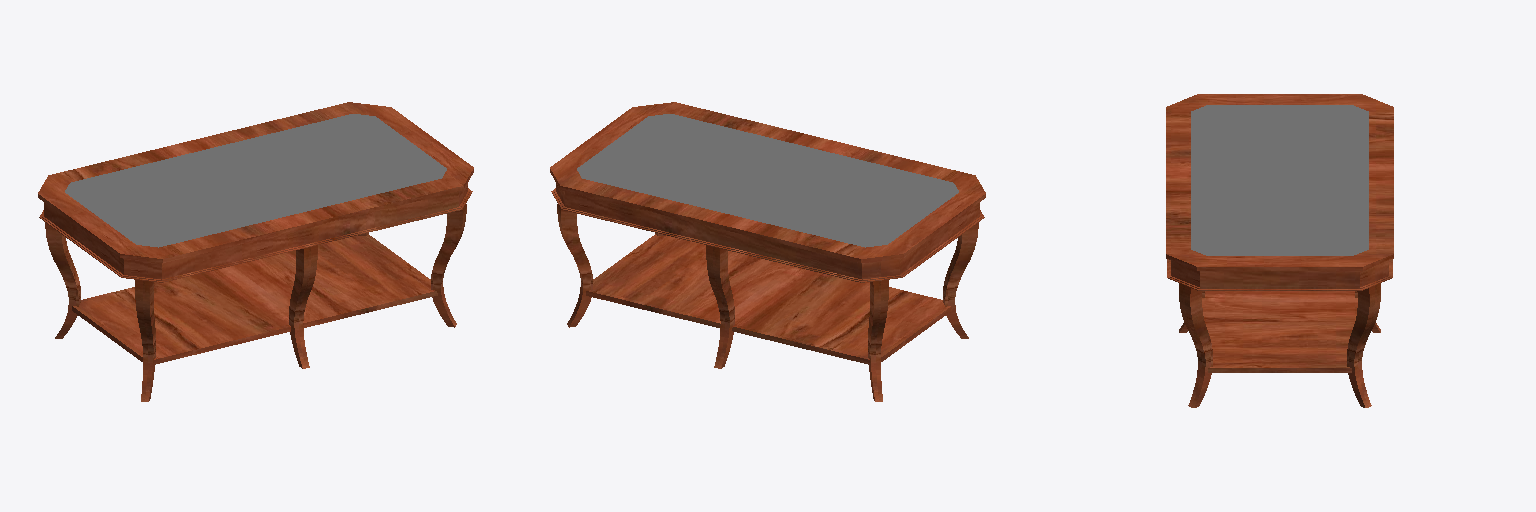
3 renders of one model, left to right at view 1: azimuth 30°, elevation 25°; view 2: azimuth 150°, elevation 25°; view 3: azimuth 270°, elevation 25°, orthographic.
Parts seen in each view (by area): view 1: mesh1_mesh1-geometry, mesh2_mesh2-geometry, mesh3_mesh3-geometry, mesh4_mesh4-geometry, mesh5_mesh5-geometry; view 2: mesh1_mesh1-geometry, mesh2_mesh2-geometry, mesh3_mesh3-geometry, mesh5_mesh5-geometry, mesh4_mesh4-geometry; view 3: mesh1_mesh1-geometry, mesh2_mesh2-geometry, mesh3_mesh3-geometry, mesh4_mesh4-geometry, mesh5_mesh5-geometry.
Part boxes in pixels (x1,y1,x2,y2): mesh1_mesh1-geometry: (65,114,446,247); mesh2_mesh2-geometry: (38,102,473,282); mesh3_mesh3-geometry: (72,234,437,364); mesh4_mesh4-geometry: (45,204,466,368); mesh5_mesh5-geometry: (135,233,368,401); mesh1_mesh1-geometry: (577,114,958,247); mesh2_mesh2-geometry: (550,102,985,282); mesh3_mesh3-geometry: (586,234,951,364); mesh5_mesh5-geometry: (557,204,978,368); mesh4_mesh4-geometry: (655,233,888,401); mesh1_mesh1-geometry: (1191,105,1368,255); mesh2_mesh2-geometry: (1166,94,1393,290); mesh3_mesh3-geometry: (1202,291,1357,372); mesh4_mesh4-geometry: (1179,283,1212,407); mesh5_mesh5-geometry: (1347,283,1380,407).
Size of the model in its own units: 0.8221 by 0.3349 by 0.4604.
2 materials, 1 textured.